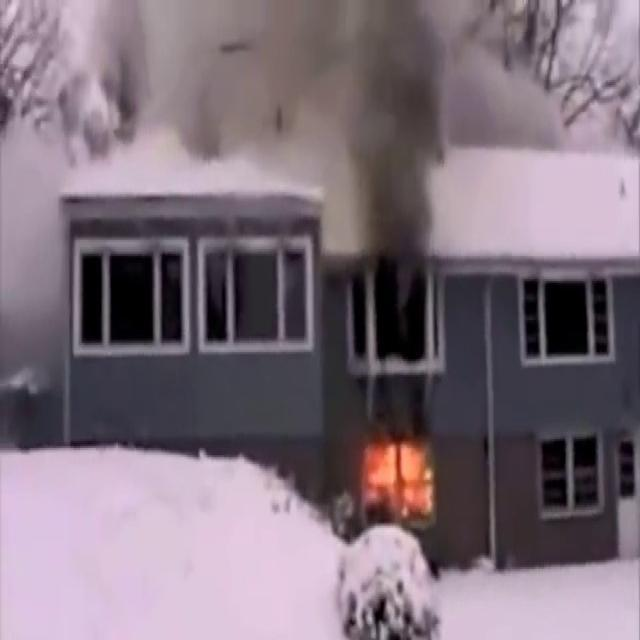Fire: (358, 429, 438, 514)
Smoke: (52, 0, 520, 201)
